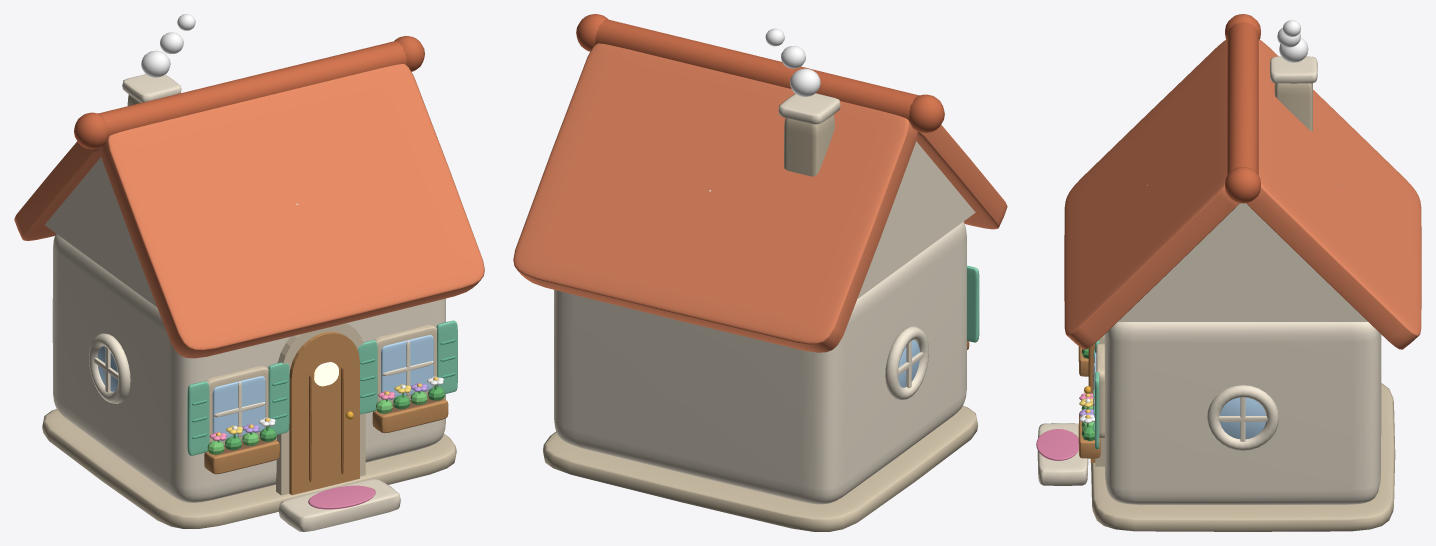
Rendered from house.glb.
3 views of the same model, side by side, from view 1: azimuth 30°, elevation 25°; view 2: azimuth 150°, elevation 25°; view 3: azimuth 270°, elevation 25° (orthographic). The views are drawn at different scales.
Parts seen in each view (by area): view 1: house; view 2: house; view 3: house.
Boxes of the visible parts, <box> form: house: <box>14,14,484,531</box>; house: <box>513,14,1007,531</box>; house: <box>1036,14,1421,531</box>.
Size of the model in its own units: 4.32 by 5.06 by 4.18.
1 material, 1 textured.
